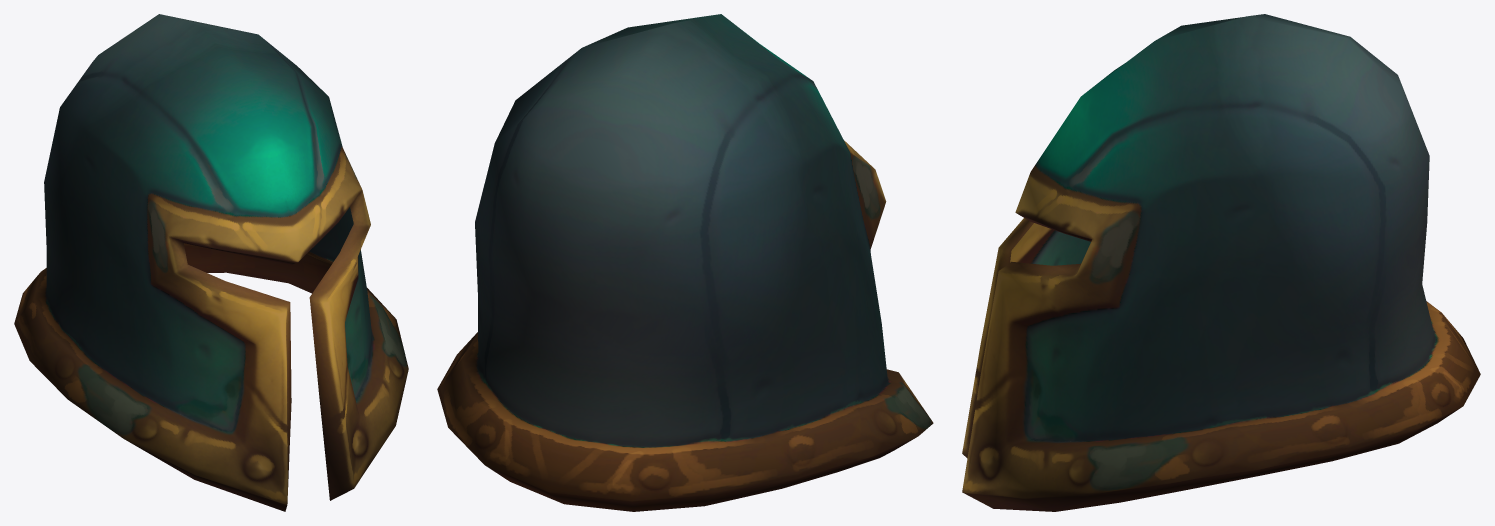
File: NewbieWarrior_Helmet.fbx
The picture shows the model from 3 angles, left to right: view 1: azimuth 30°, elevation 25°; view 2: azimuth 150°, elevation 25°; view 3: azimuth 270°, elevation 25°; orthographic projection. The views are drawn at different scales.
Visible parts, largest first — view 1: NewbieWarrior_Helmet; view 2: NewbieWarrior_Helmet; view 3: NewbieWarrior_Helmet.
Part boxes in pixels (x1,y1,x2,y2): NewbieWarrior_Helmet: (14, 14, 408, 511); NewbieWarrior_Helmet: (437, 14, 933, 511); NewbieWarrior_Helmet: (962, 14, 1480, 511).
Size of the model in its own units: 25.52 by 29.68 by 29.1.
